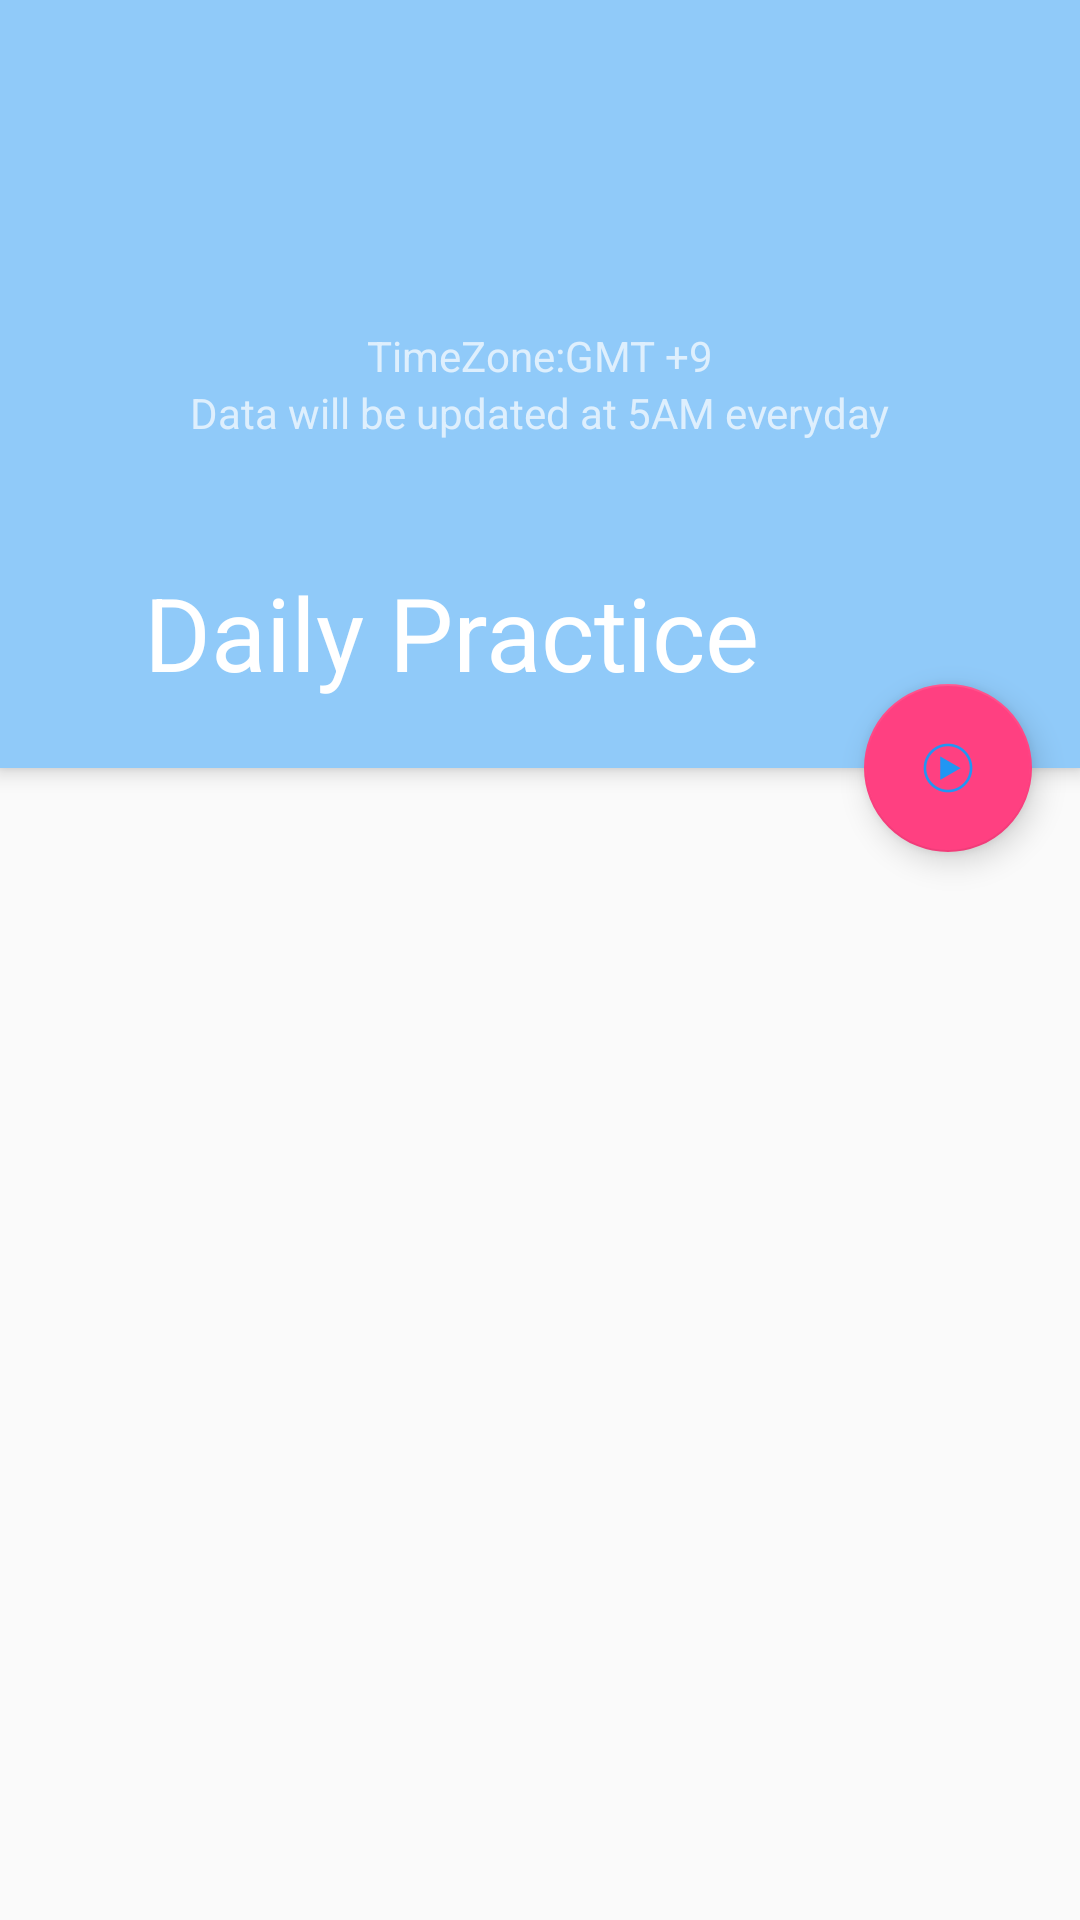

Where to tap for icons on this 1080 × 1920 app screen, as (x,y):
play: (948,768)
